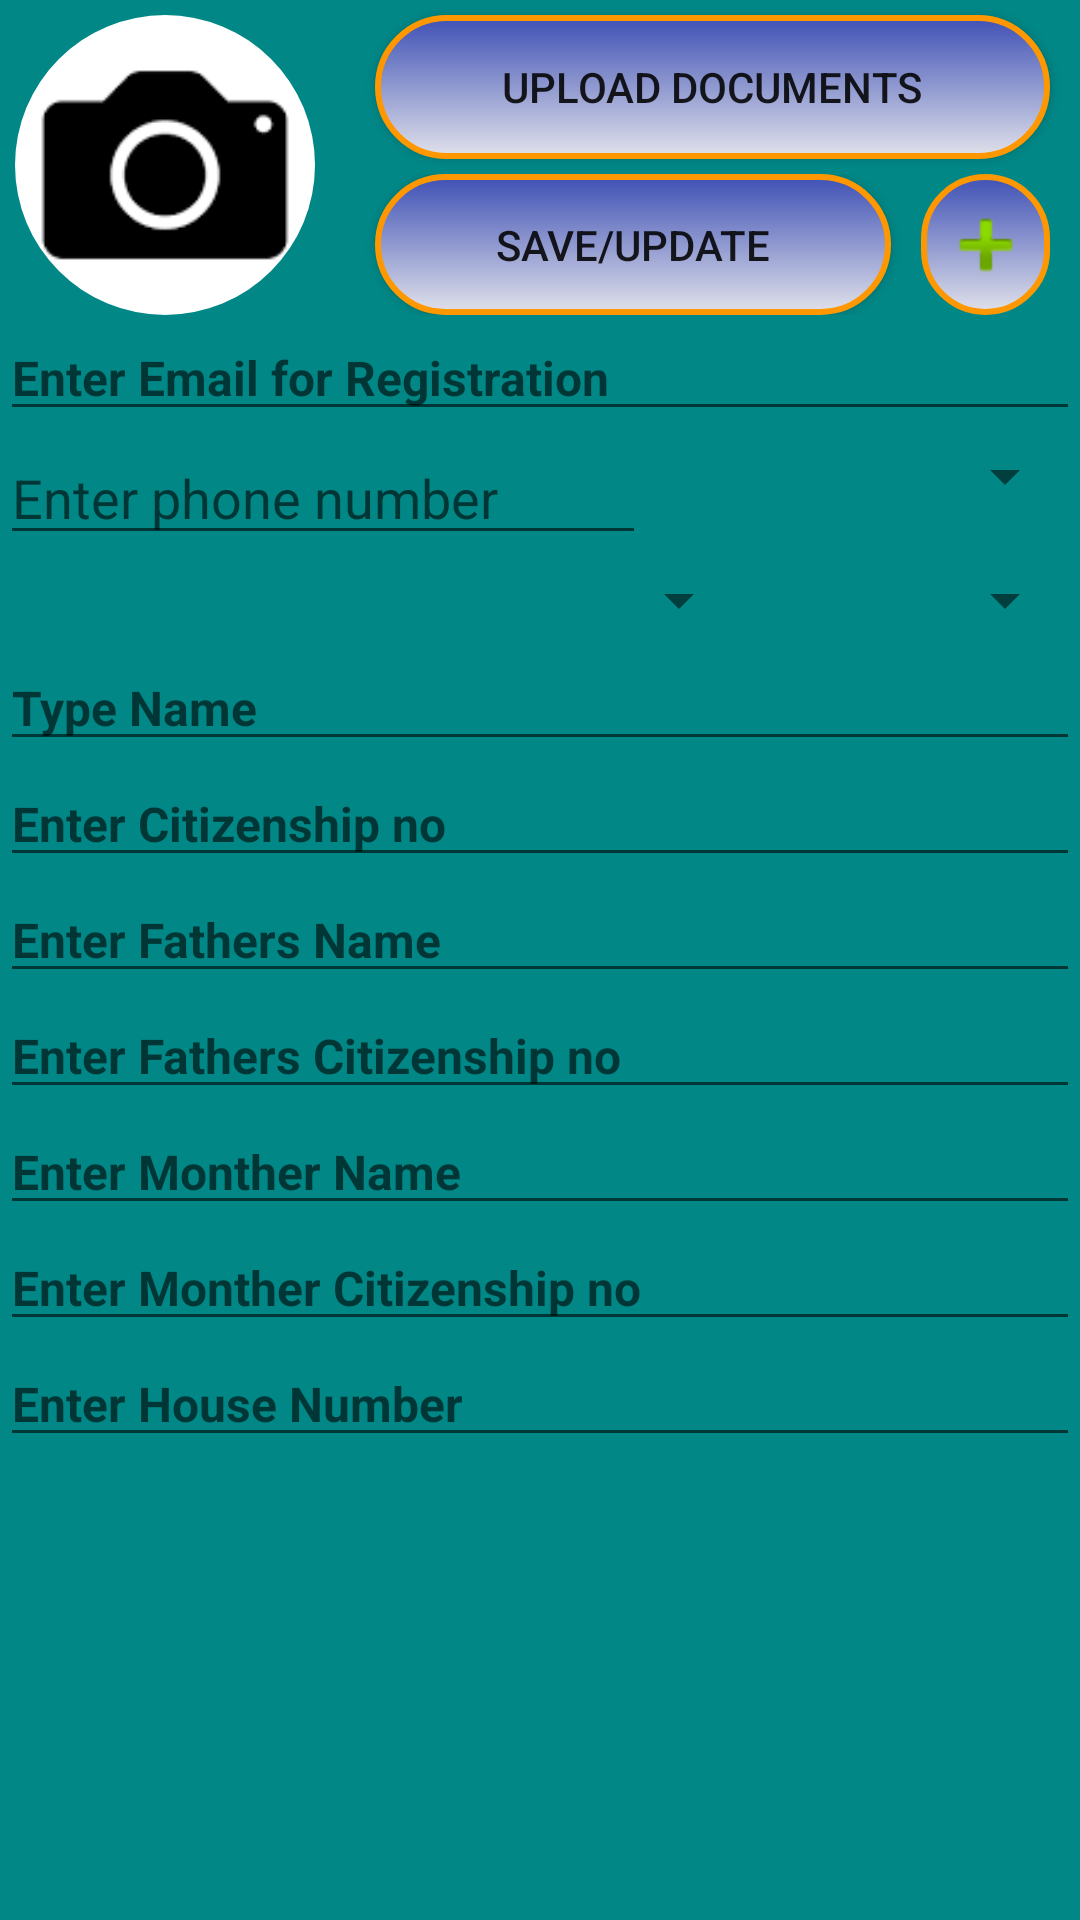

Named icons in this screenshot (1080 x 1920) and their bounding boxes, (x1, y1, x2, y2):
add: (921, 174, 1050, 315)
